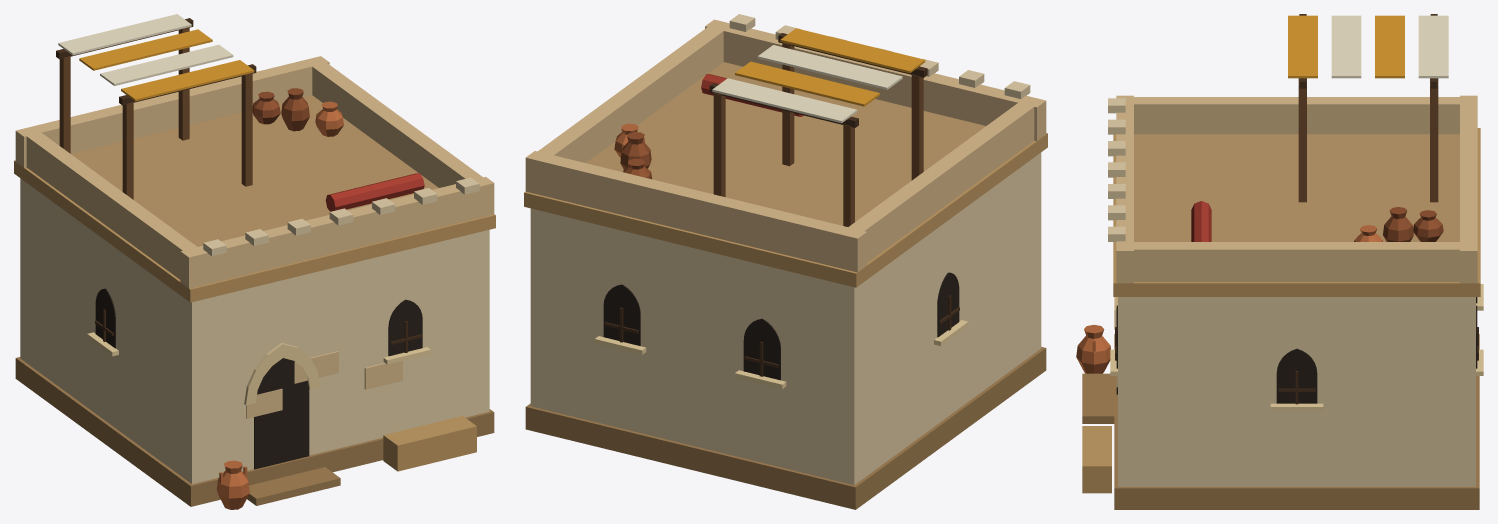
Rendered from desert_house_a.glb.
3 views of the same model, side by side, from view 1: azimuth 30°, elevation 25°; view 2: azimuth 150°, elevation 25°; view 3: azimuth 270°, elevation 25° (orthographic). The views are drawn at different scales.
Visible parts, largest first — view 1: desert_house_a; view 2: desert_house_a; view 3: desert_house_a.
Part boxes in pixels (left/top/right/bottom): desert_house_a: left=14, top=14, right=495, bottom=509; desert_house_a: left=524, top=14, right=1047, bottom=509; desert_house_a: left=1076, top=14, right=1483, bottom=509.
Size of the model in its own units: 6.26 by 6.55 by 6.83.
